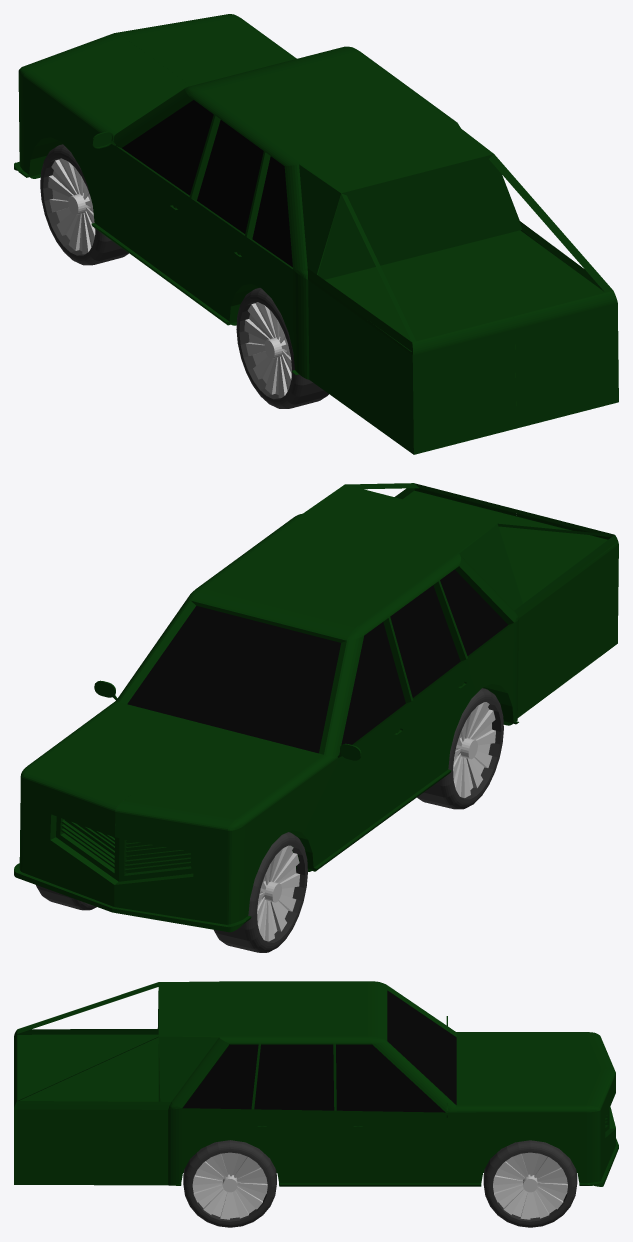
The model's file is Groen.fbx.
3 views of the same model, one above another, from view 1: azimuth 30°, elevation 25°; view 2: azimuth 150°, elevation 25°; view 3: azimuth 270°, elevation 25° (orthographic). The views are drawn at different scales.
Parts seen in each view (by area): view 1: GreenFrame, GreenBackWheels, GreenFrontWheels; view 2: GreenFrame, GreenFrontWheels, GreenBackWheels; view 3: GreenFrame, GreenBackWheels, GreenFrontWheels.
Boxes of the visible parts, x1,y1,x2,y2 form: GreenFrame: (14,14,618,454); GreenBackWheels: (236,288,328,408); GreenFrontWheels: (40,144,128,265); GreenFrame: (14,483,618,932); GreenFrontWheels: (36,832,307,952); GreenBackWheels: (417,688,503,809); GreenFrame: (14,981,618,1186); GreenBackWheels: (183,1140,276,1227); GreenFrontWheels: (483,1140,577,1227).
Bounding box in the file's own units: 387 × 339 × 1017.
